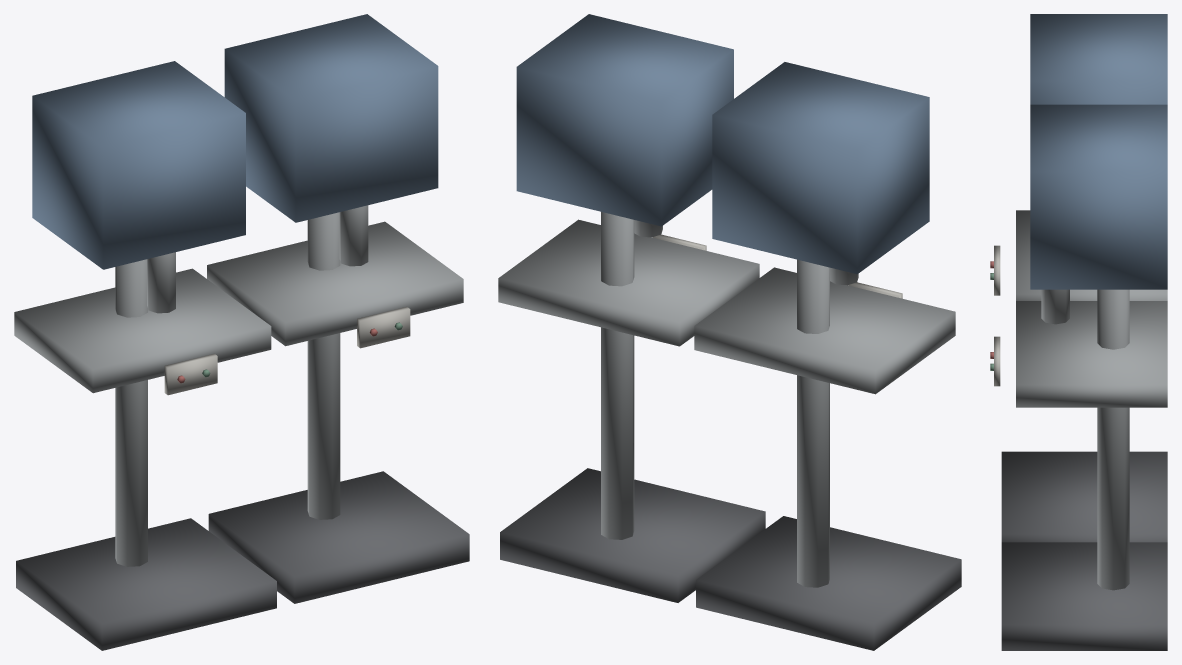
Rendered from drill_press__cluster.glb.
3 renders of one model, left to right at view 1: azimuth 30°, elevation 25°; view 2: azimuth 150°, elevation 25°; view 3: azimuth 270°, elevation 25°, orthographic. The views are drawn at different scales.
Parts seen in each view (by area): view 1: world; view 2: world; view 3: world.
Boxes of the visible parts, box(x1,y1,x2,y2) form: world: box(14, 14, 469, 650); world: box(498, 14, 961, 650); world: box(990, 14, 1167, 650).
Size of the model in its own units: 1.14 by 1.44 by 0.491.
